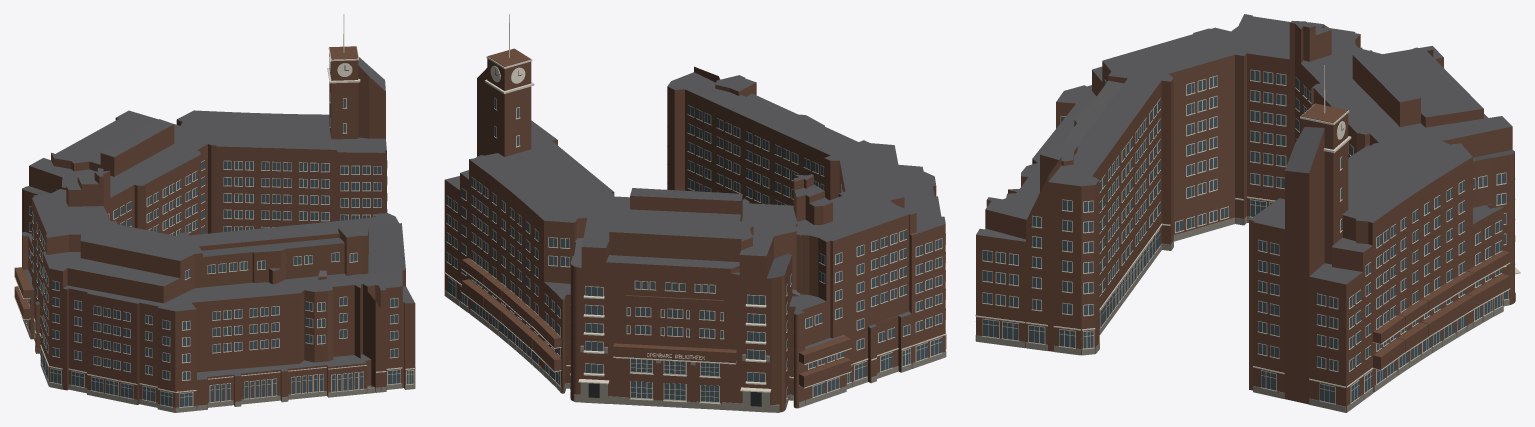
The model's file is het-nieuwe-huis.glb.
3 renders of one model, left to right at view 1: azimuth 30°, elevation 25°; view 2: azimuth 150°, elevation 25°; view 3: azimuth 270°, elevation 25°, orthographic. The views are drawn at different scales.
Visible parts, largest first — view 1: het-nieuwe-huis; view 2: het-nieuwe-huis; view 3: het-nieuwe-huis.
Part boxes in pixels (x1=…): het-nieuwe-huis: x1=14, y1=14, x2=415, y2=412; het-nieuwe-huis: x1=444, y1=14, x2=946, y2=412; het-nieuwe-huis: x1=975, y1=14, x2=1520, y2=412.
Size of the model in its own units: 73.89 by 46.2 by 71.73.
